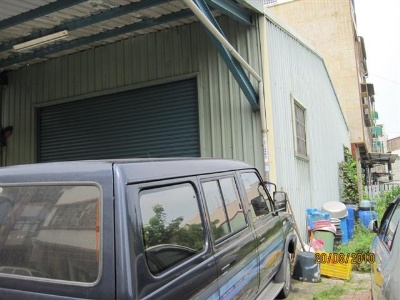bowl: (321, 201, 348, 219), (356, 206, 375, 211)
bucket: (291, 252, 321, 282)
plastic_bag: (307, 208, 330, 219)
